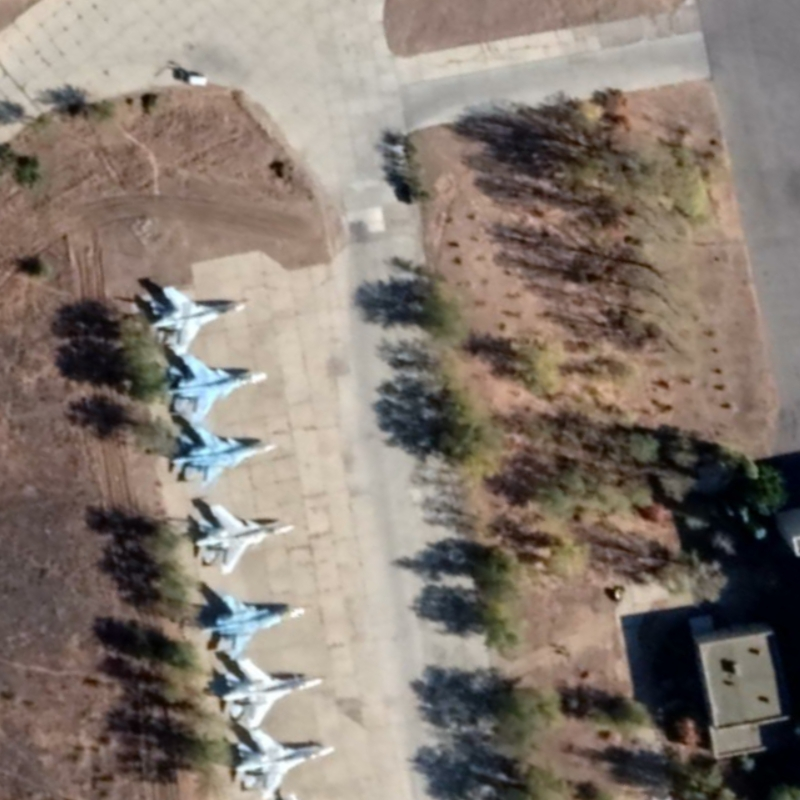A1: (210, 656, 327, 732), (226, 724, 341, 800), (143, 281, 248, 357), (200, 590, 307, 663)
A19: (162, 418, 278, 489), (187, 500, 297, 574), (160, 350, 271, 422)
